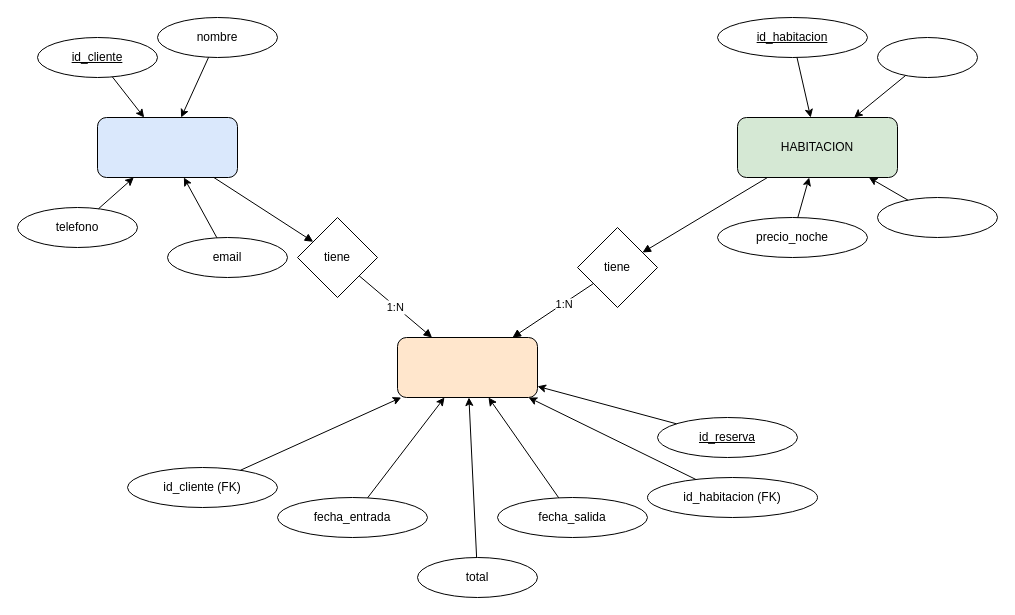
Some shapes in this 1015 by 615 pixel diagram are drawn without their labels. The shapes that lost their labels are listed below. From the top down, each one's centre as x and y in pixels, then its label:
At [927,57]: "tipo".
At [167,147]: "CLIENTE".
At [937,217]: "estado".
At [467,367]: "RESERVA".
